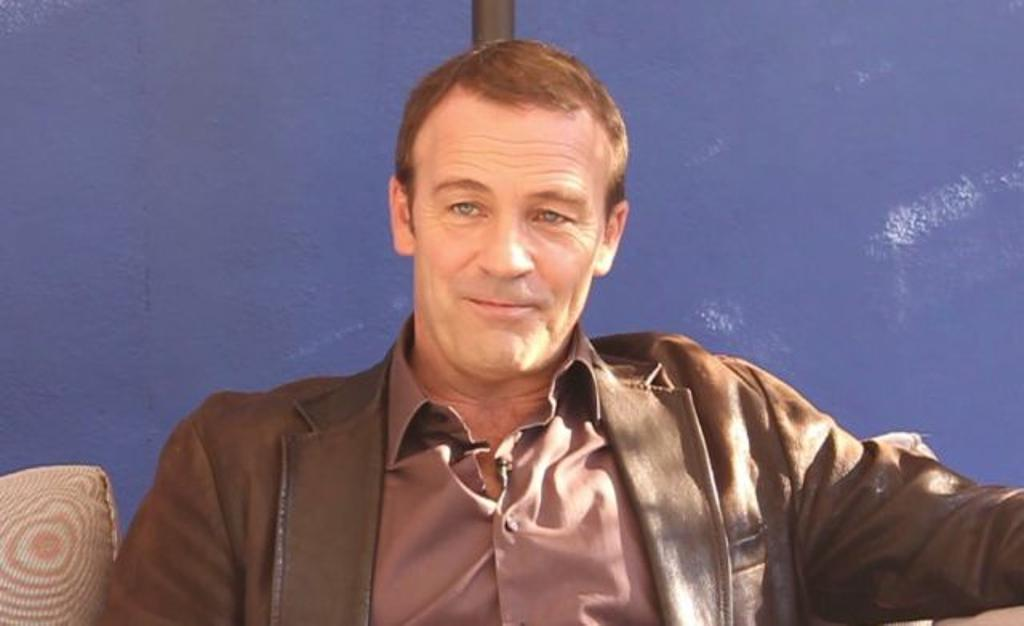face: (418, 104, 604, 372)
